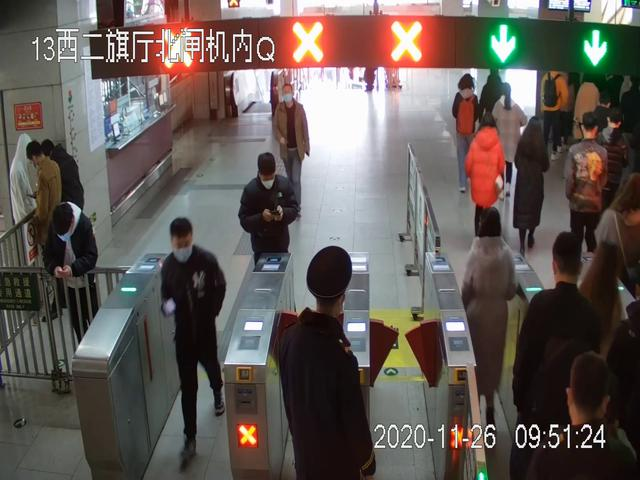person: (513, 232, 609, 480), (282, 246, 376, 480), (162, 218, 226, 472), (462, 207, 515, 439), (238, 152, 299, 334), (44, 202, 99, 369), (564, 112, 610, 266), (464, 112, 505, 250), (9, 134, 42, 284), (515, 117, 549, 261), (274, 84, 310, 217), (491, 83, 527, 202), (452, 73, 487, 193), (540, 70, 570, 160)
